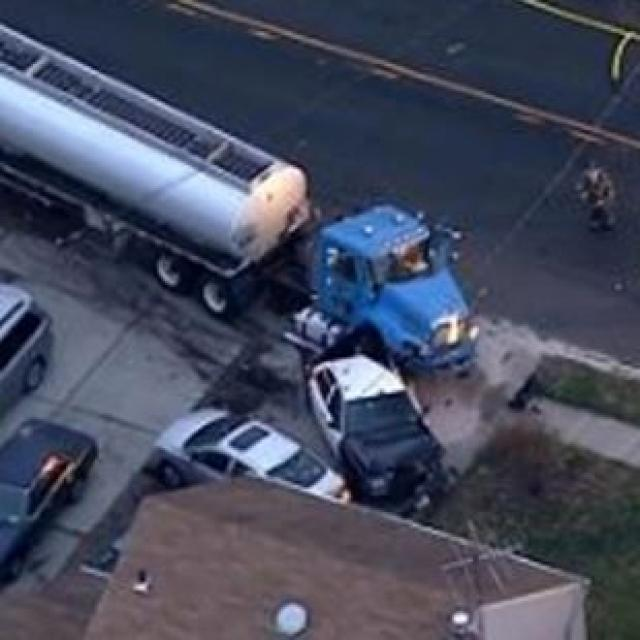traffic_incident: (289, 324, 448, 506)
